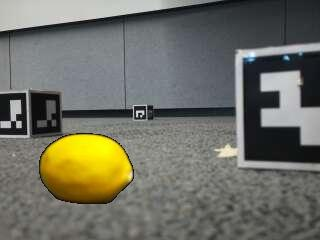lemon: (40, 133, 134, 203)
